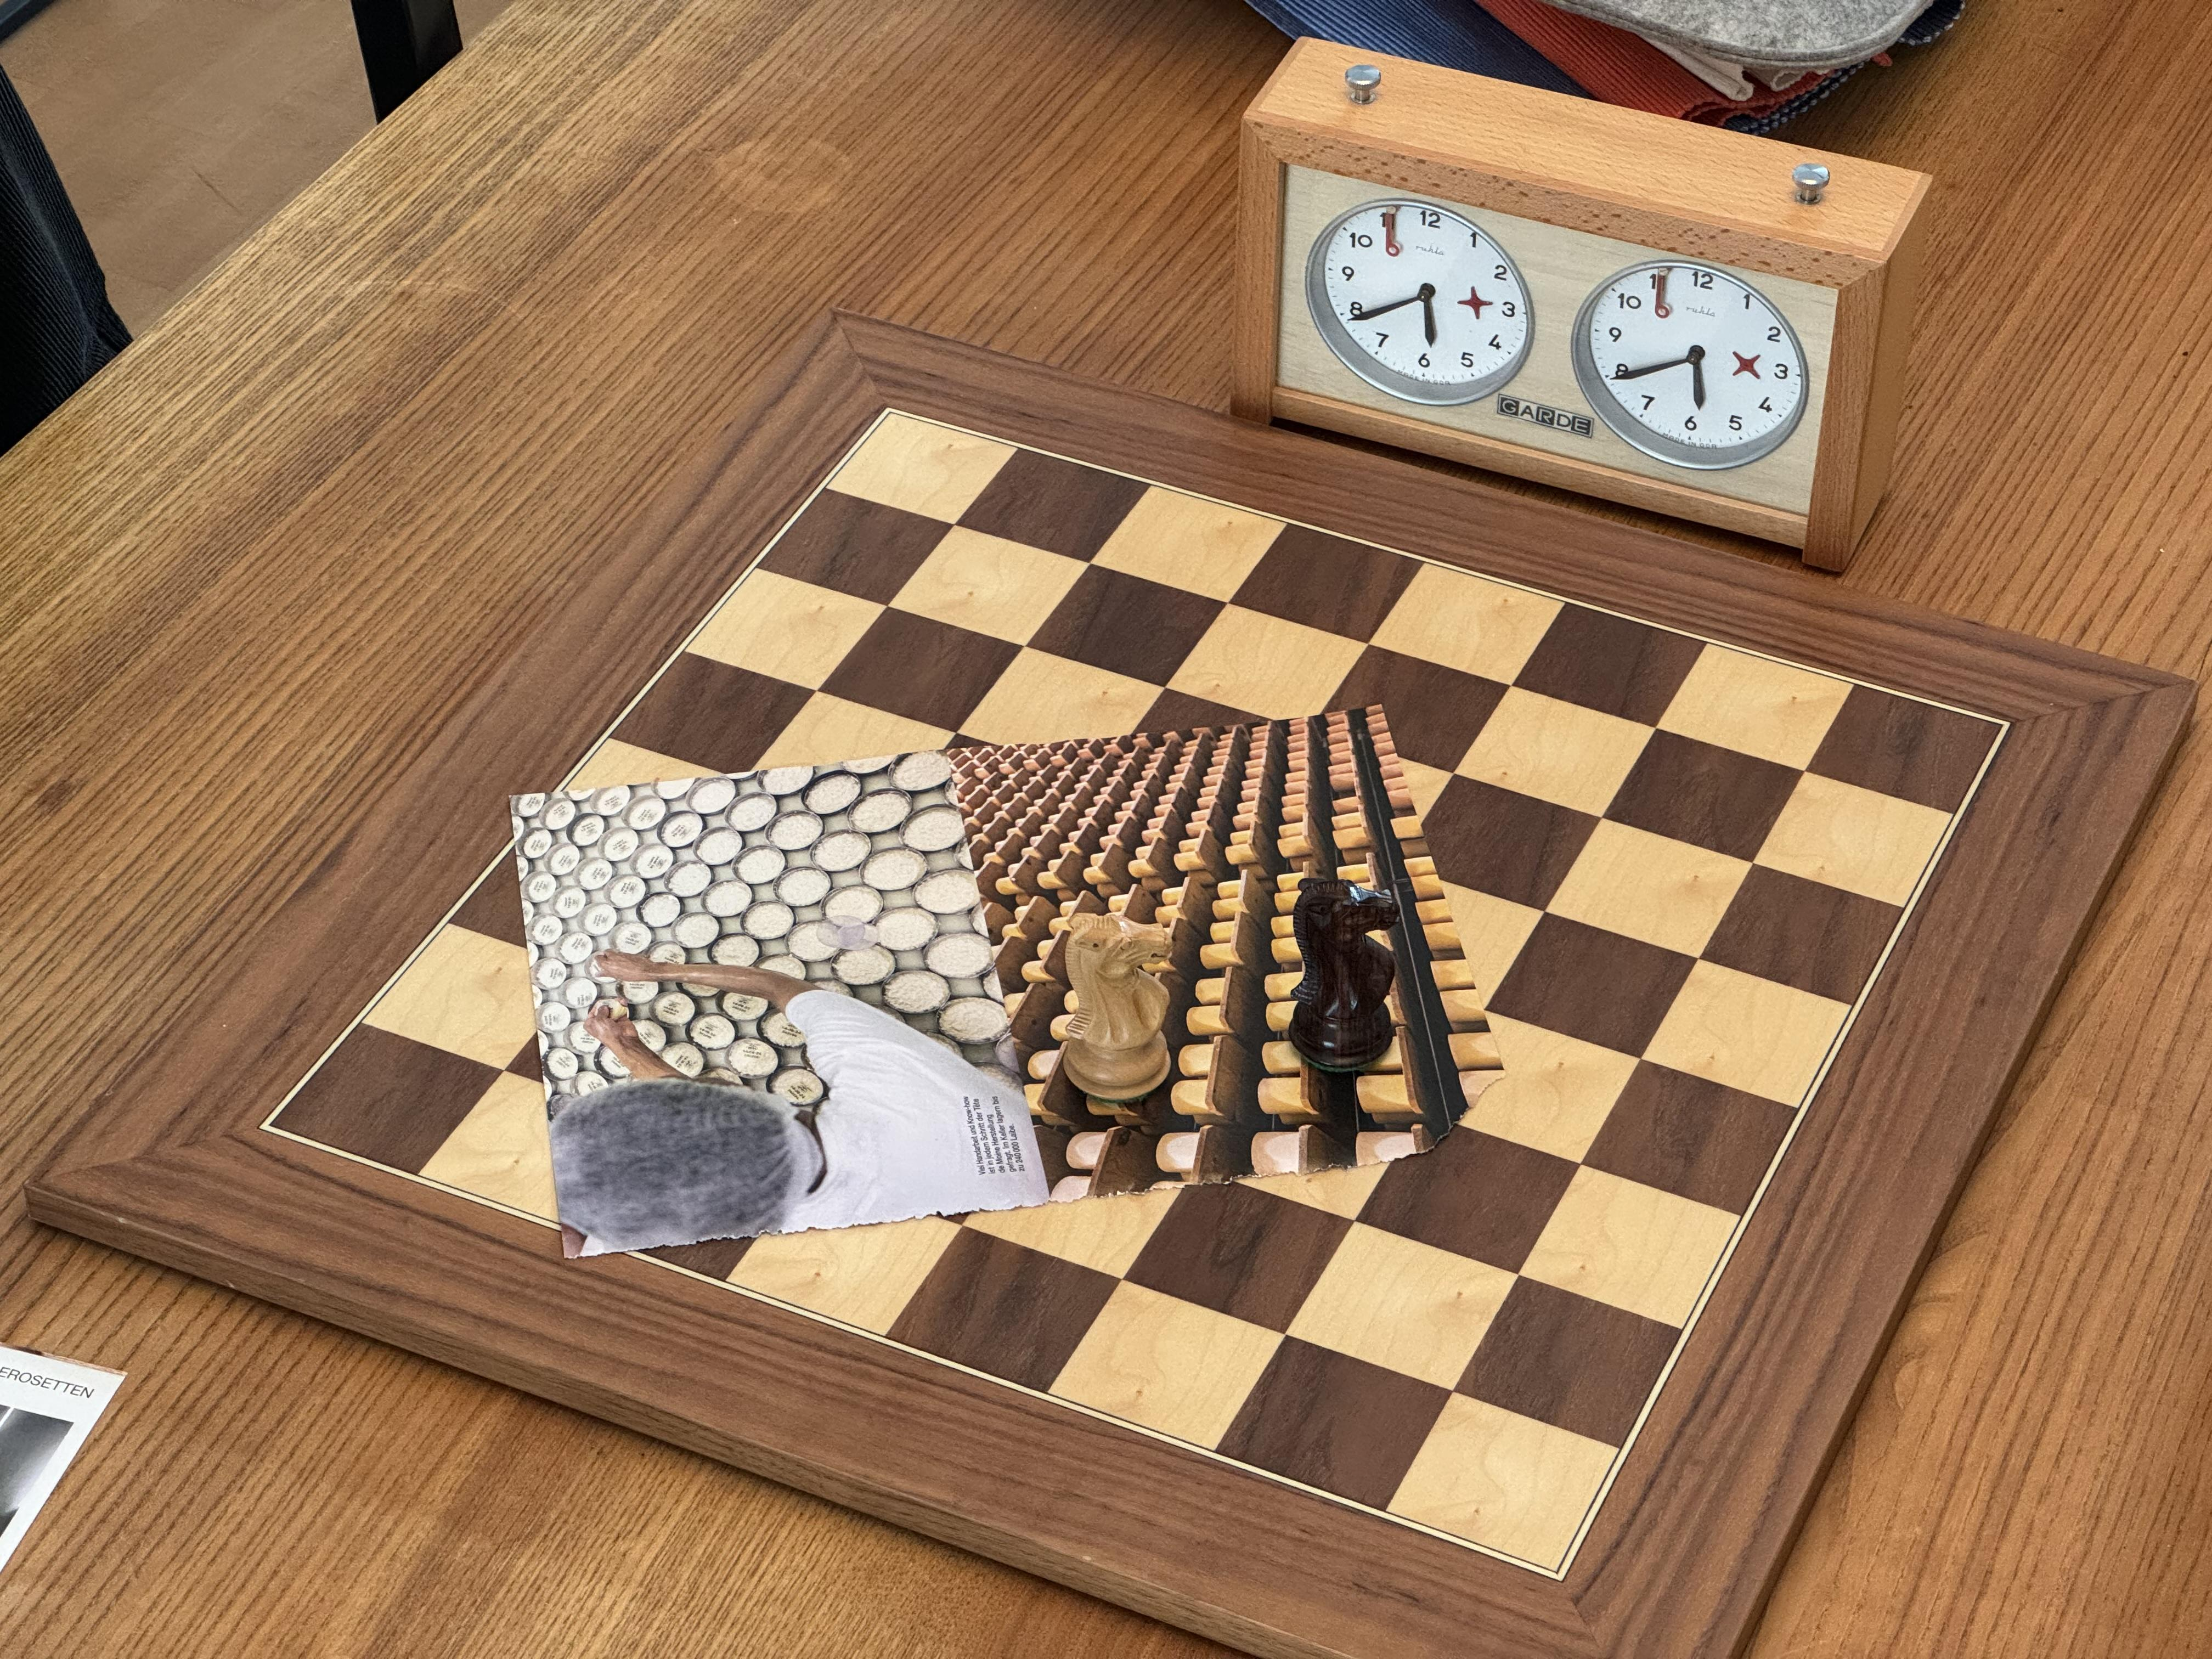Black Knight: (1285, 873, 1401, 1076)
White Knight: (1054, 907, 1177, 1109)
